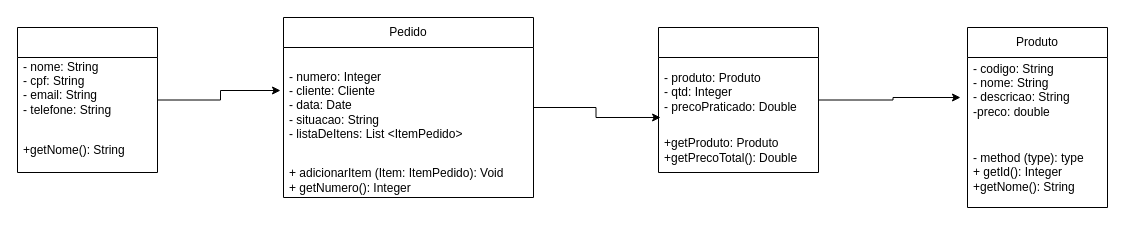
Image size: 1125x225. Some labels were removed from this diagram. Each missing label, with the box of its shape:
Cliente: (16, 26, 158, 172)
ItemPedido: (658, 26, 818, 172)
